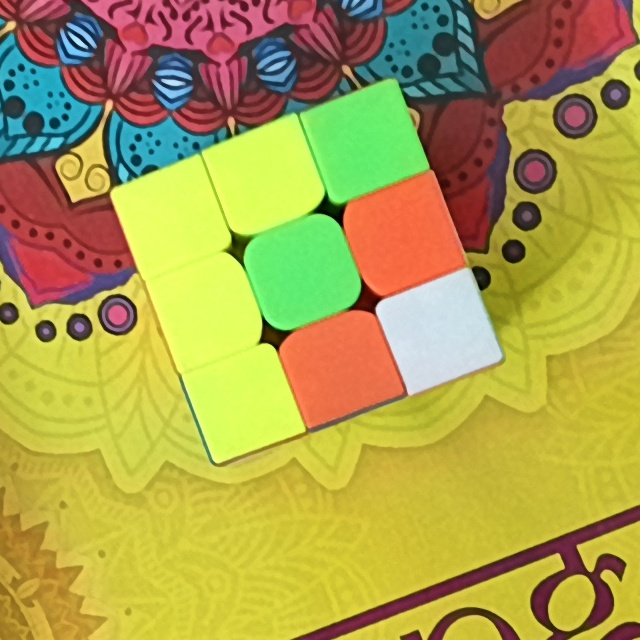tile: (328, 107, 403, 180), (370, 197, 441, 272), (304, 329, 377, 401), (269, 233, 340, 307), (403, 295, 476, 366), (228, 143, 304, 210), (171, 275, 243, 343), (135, 184, 204, 253), (209, 368, 282, 433)
